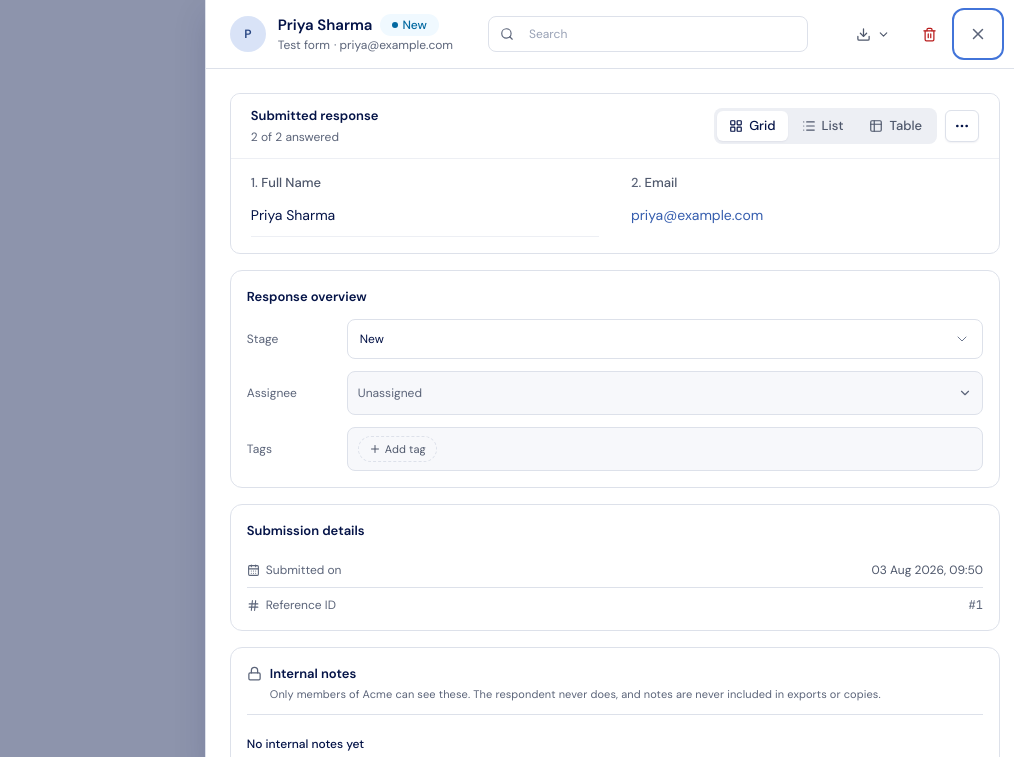
ResponseDrawer › download format › PDF requests a PDF of this one response, in the right scope, and says it is being prepared
Expected: the heading "Submitted response" is shown, [251,106,378,126]
Step 1. Click the button named "Download response" → [873, 34], box [843,18,903,50]
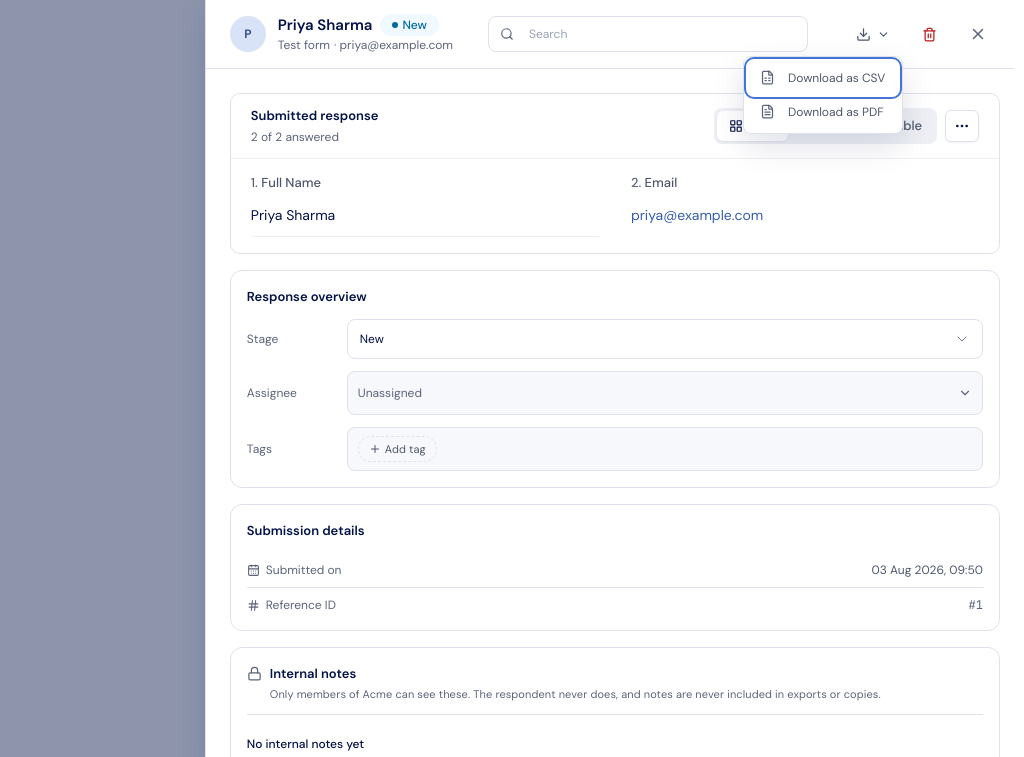
Step 2. Click the menu item "Download as PDF" → [823, 112], box [748,95,898,129]
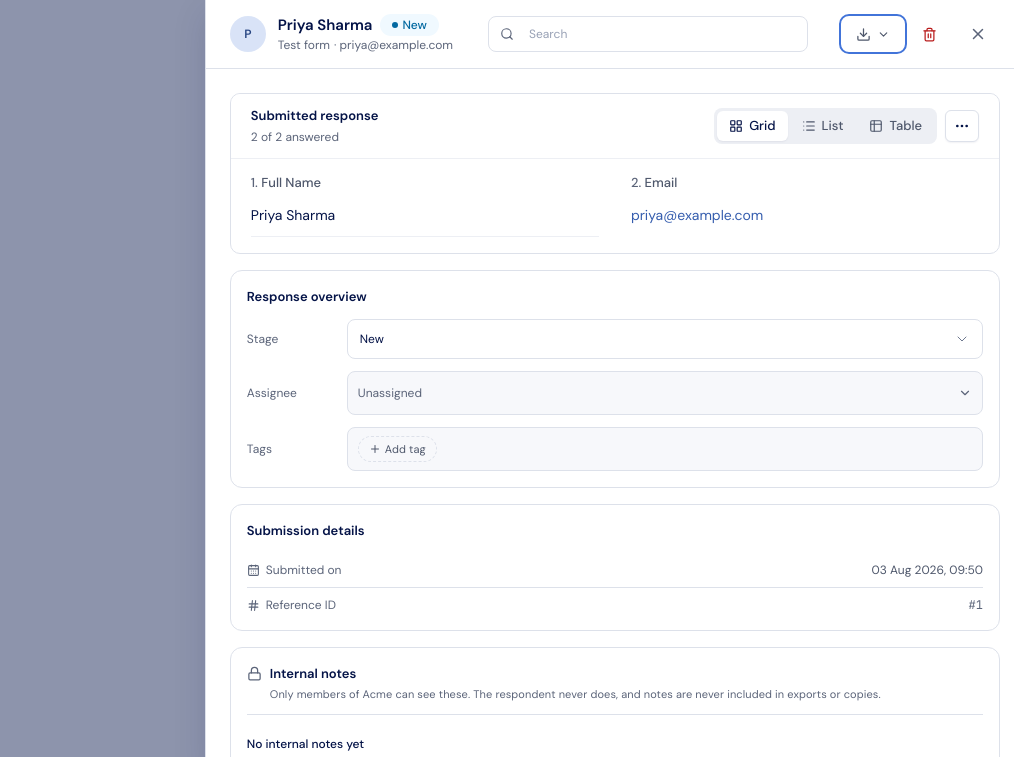
Expected: the menu is gone
